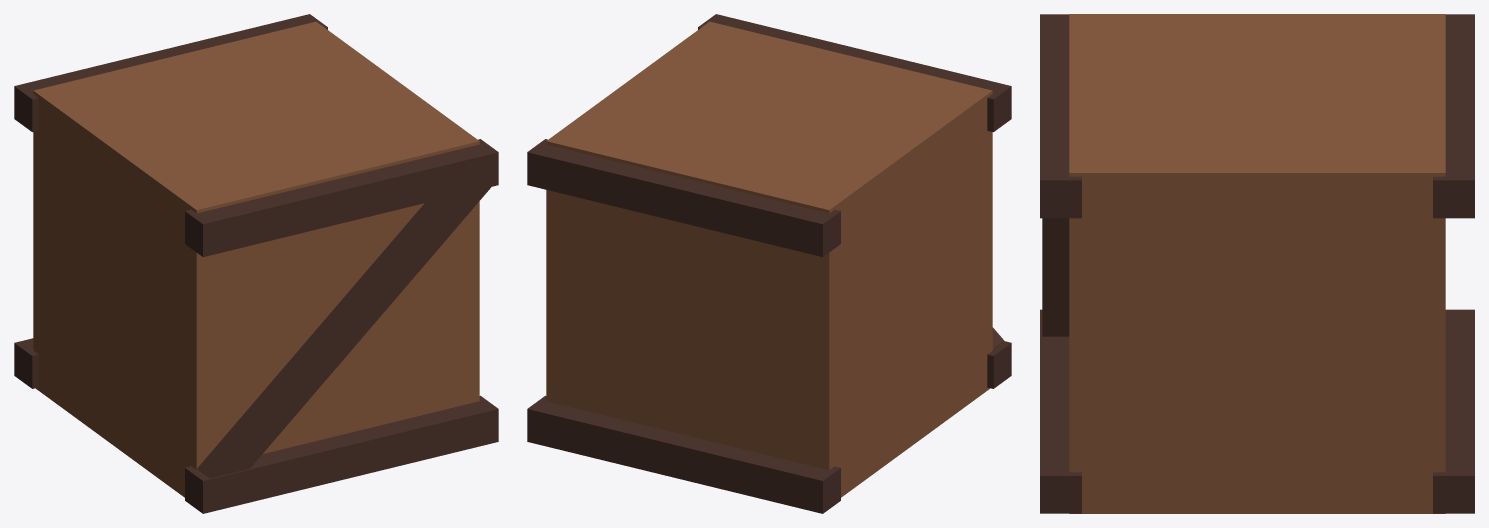
Rendered from crate.glb.
The picture shows the model from 3 angles, left to right: view 1: azimuth 30°, elevation 25°; view 2: azimuth 150°, elevation 25°; view 3: azimuth 270°, elevation 25°; orthographic projection. The views are drawn at different scales.
Visible parts, largest first — view 1: crate, cross, band.002, band, band.003, band.001; view 2: crate, band.003, band.001, band.002, band; view 3: crate, band.002, band.003, band.001, band, cross.
Part boxes in pixels (x1=…): crate: x1=33, y1=21, x2=479, y2=497; cross: x1=197, y1=187, x2=491, y2=478; band.002: x1=185, y1=139, x2=498, y2=257; band: x1=185, y1=395, x2=498, y2=513; band.003: x1=14, y1=14, x2=327, y2=132; band.001: x1=14, y1=338, x2=38, y2=388; crate: x1=546, y1=21, x2=992, y2=497; band.003: x1=527, y1=139, x2=840, y2=257; band.001: x1=527, y1=395, x2=840, y2=513; band.002: x1=698, y1=14, x2=1011, y2=132; band: x1=987, y1=341, x2=1011, y2=388; crate: x1=1069, y1=14, x2=1445, y2=513; band.002: x1=1040, y1=14, x2=1081, y2=218; band.003: x1=1433, y1=14, x2=1474, y2=218; band.001: x1=1433, y1=309, x2=1474, y2=513; band: x1=1040, y1=309, x2=1081, y2=513; cross: x1=1042, y1=218, x2=1069, y2=336.
Bounding box in the file's own units: 0.94 × 0.9 × 1.04.
